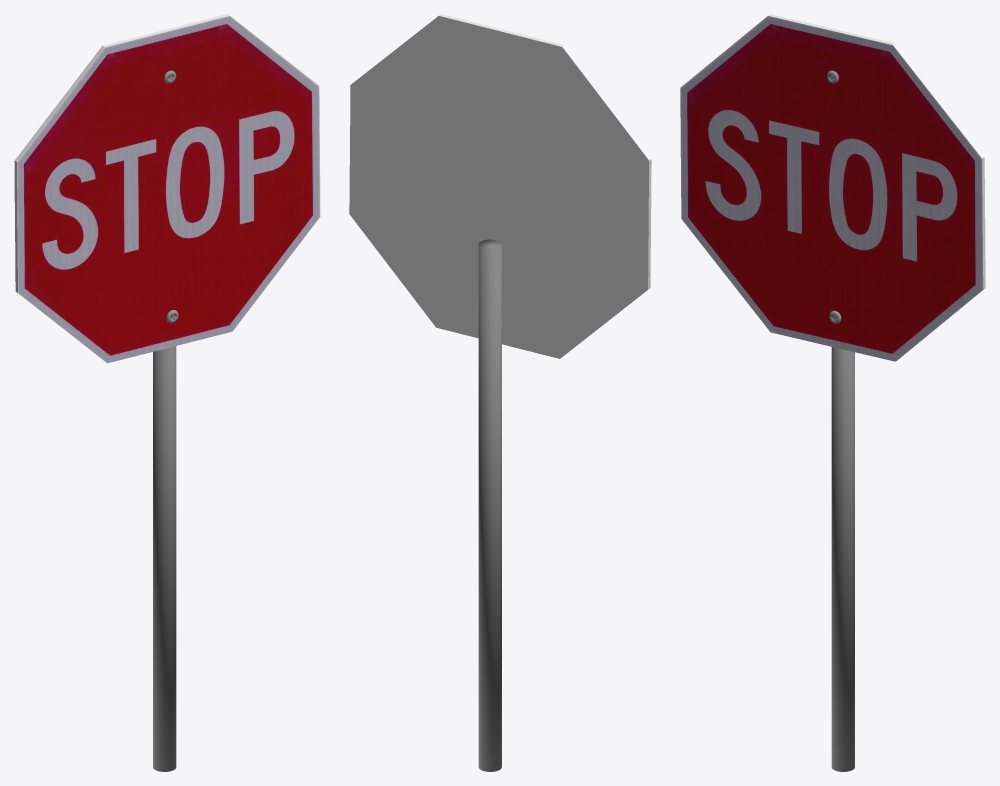
The model's file is StopSignnew.glb.
3 renders of one model, left to right at view 1: azimuth 30°, elevation 25°; view 2: azimuth 150°, elevation 25°; view 3: azimuth 330°, elevation 25°, orthographic.
Parts seen in each view (by area): view 1: Circle.001; view 2: Circle.001; view 3: Circle.001.
Part boxes in pixels (x1,y1,x2,y2): Circle.001: [14, 14, 320, 771]; Circle.001: [349, 14, 651, 771]; Circle.001: [680, 14, 985, 771].
Size of the model in its own units: 5 by 11.7 by 0.4278.
5 materials, 1 textured.
